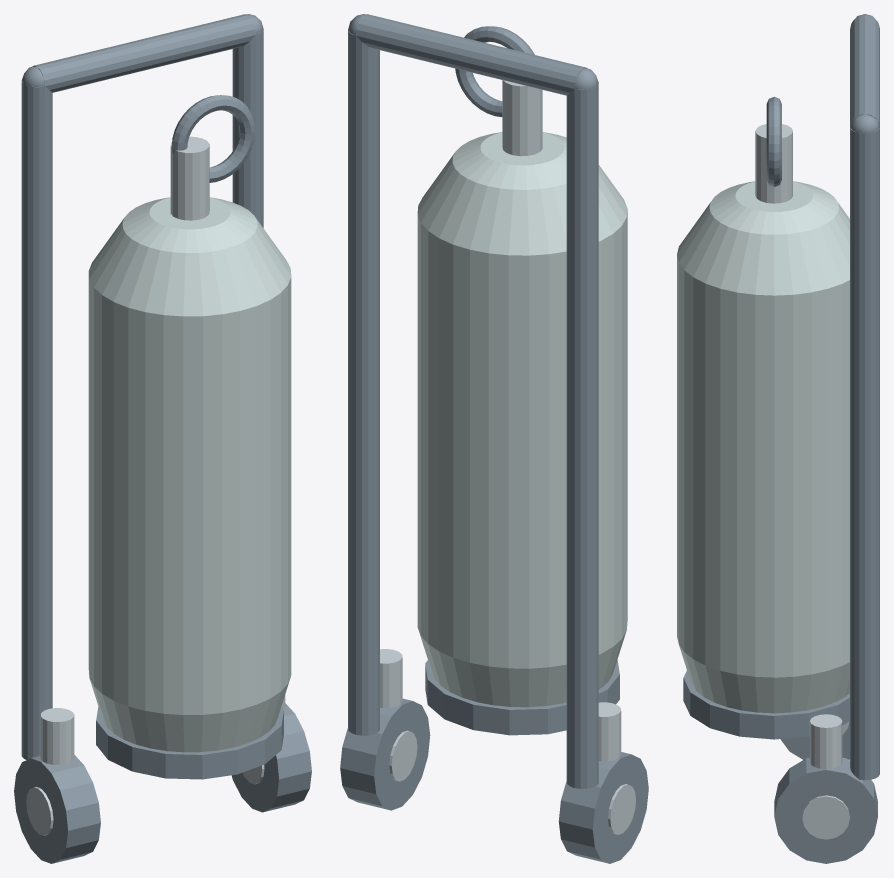
The model's file is hospital_oxygen_trolley.glb.
3 views of the same model, side by side, from view 1: azimuth 30°, elevation 25°; view 2: azimuth 150°, elevation 25°; view 3: azimuth 270°, elevation 25° (orthographic). The views are drawn at different scales.
Visible parts, largest first — view 1: decor_9bb7b5_matte, decor_455665_metal, decor_9aadb8_metal; view 2: decor_9bb7b5_matte, decor_455665_metal, decor_9aadb8_metal; view 3: decor_9bb7b5_matte, decor_455665_metal, decor_9aadb8_metal.
Boxes of the visible parts, <box> form: decor_9bb7b5_matte: <box>88,197,291,752</box>; decor_455665_metal: <box>14,14,311,863</box>; decor_9aadb8_metal: <box>26,136,285,835</box>; decor_9bb7b5_matte: <box>417,132,627,707</box>; decor_455665_metal: <box>340,14,648,863</box>; decor_9aadb8_metal: <box>380,80,635,834</box>; decor_9bb7b5_matte: <box>677,181,849,713</box>; decor_455665_metal: <box>683,14,879,863</box>; decor_9aadb8_metal: <box>755,124,849,839</box>.
Bounding box in the file's own units: 0.424 × 1.26 × 0.313.
